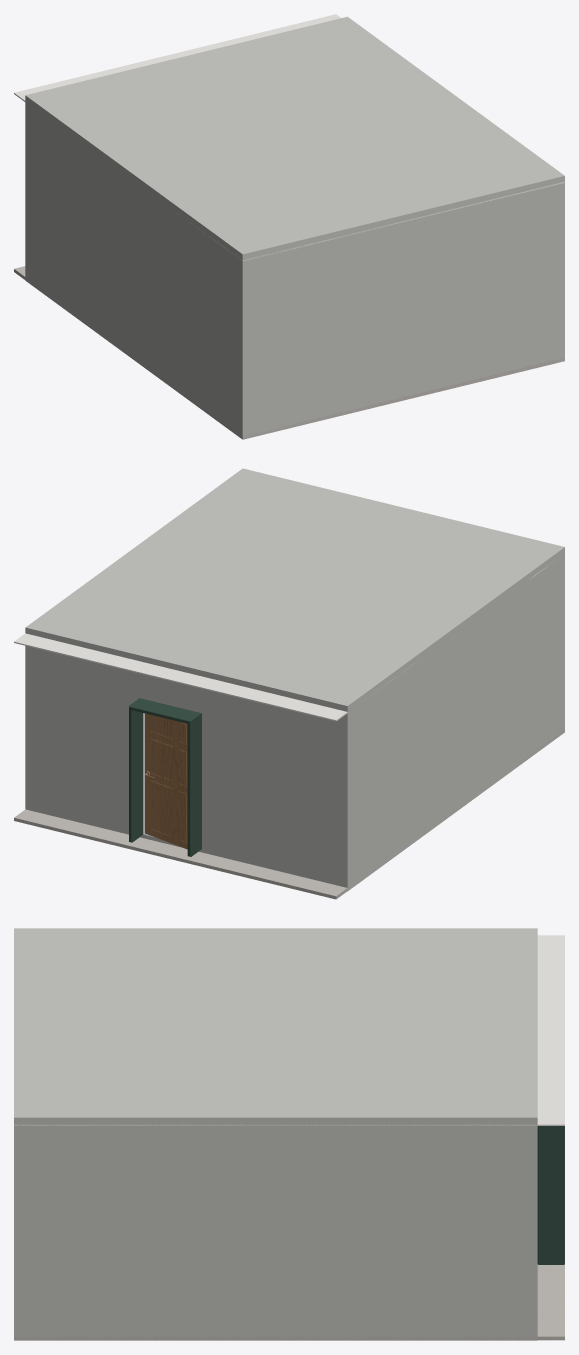
File: infinigen-behavioral-health-private.glb
3 views of the same model, one above another, from view 1: azimuth 30°, elevation 25°; view 2: azimuth 150°, elevation 25°; view 3: azimuth 270°, elevation 25° (orthographic). The views are drawn at different scales.
Parts seen in each view (by area): view 1: bedroom_0/0.exterior, openclinxr_ceiling_painted, openclinxr_floor_field; view 2: bedroom_0/0.exterior, bedroom_0/0.door_leaf, openclinxr_floor_field, bedroom_0/0.door_casing, openclinxr_ceiling_painted; view 3: bedroom_0/0.exterior, openclinxr_ceiling_painted, openclinxr_floor_field, bedroom_0/0.door_casing.
Boxes of the visible parts, box(x1,y1,x2,y2) form: bedroom_0/0.exterior: box(25, 16, 564, 439); openclinxr_ceiling_painted: box(14, 14, 564, 261); openclinxr_floor_field: box(14, 266, 564, 439); bedroom_0/0.exterior: box(25, 468, 564, 891); bedroom_0/0.door_leaf: box(145, 713, 187, 849); openclinxr_floor_field: box(14, 729, 564, 899); bedroom_0/0.door_casing: box(129, 698, 201, 856); openclinxr_ceiling_painted: box(14, 560, 556, 721); bedroom_0/0.exterior: box(14, 928, 537, 1340); openclinxr_ceiling_painted: box(14, 935, 564, 1125); openclinxr_floor_field: box(14, 1264, 564, 1340); bedroom_0/0.door_casing: box(537, 1126, 564, 1264).
Size of the model in its own units: 5.22 by 2.87 by 6.42.
Materials: 9 (7 with a texture image).
